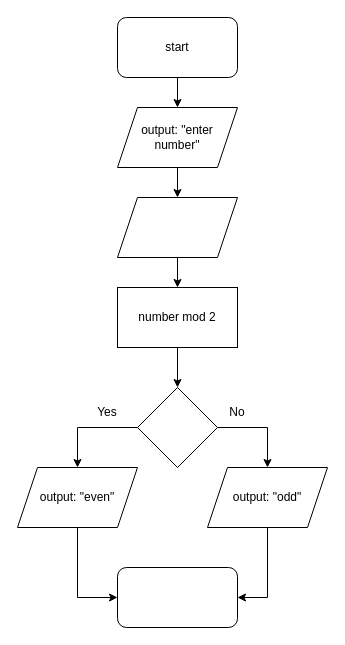
Some shapes in this 345 by 645 pixel diagram are drawn without their labels. The box of each missing label's shape, as (x1, y1, x2, y2) in pixels:
end: (116, 566, 238, 628)
result is 0: (136, 386, 218, 468)
user inputs number: (116, 196, 238, 258)
